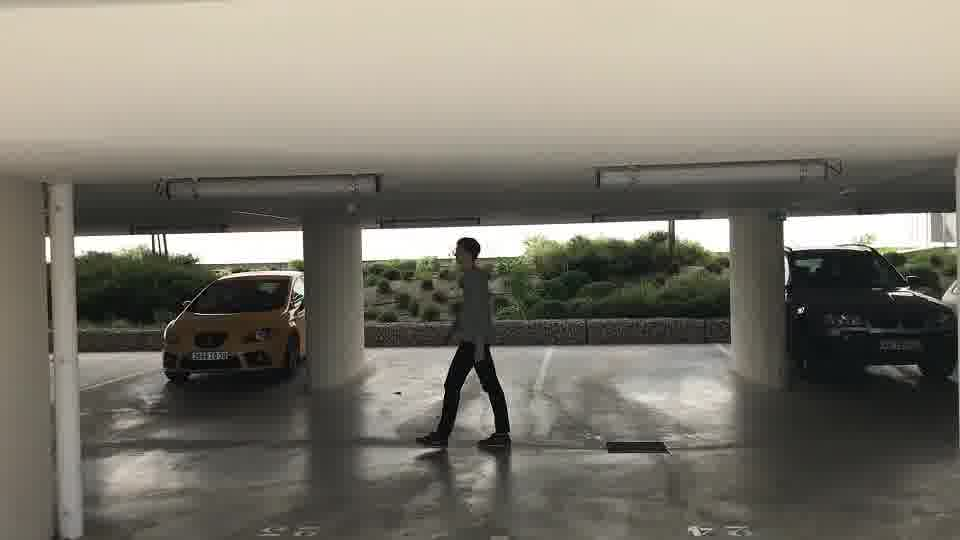jugador: (410, 236, 518, 456)
